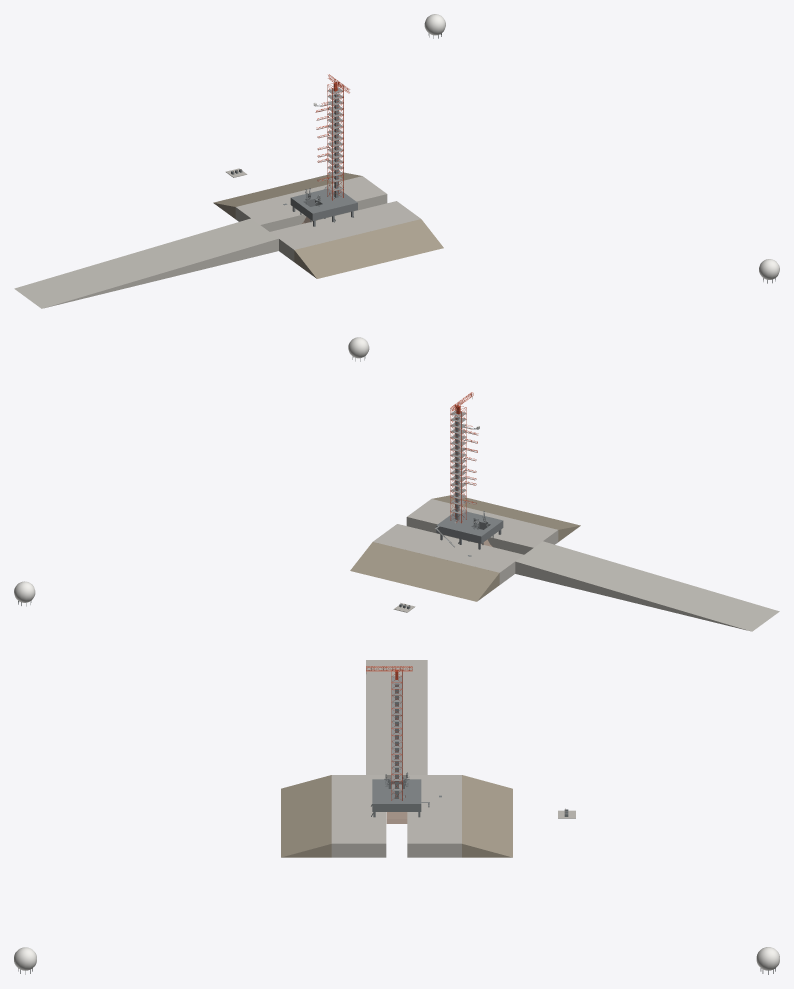
File: pad-a-1969-11.lod2.glb
3 views of the same model, one above another, from view 1: azimuth 30°, elevation 25°; view 2: azimuth 150°, elevation 25°; view 3: azimuth 270°, elevation 25° (orthographic). The views are drawn at different scales.
Visible parts, largest first — view 1: Hardstand_Concrete, Hardstand_Earth, Launcher_Base_Steel, Umbilical_Tower_Deck, Umbilical_Tower_Red, Storage_Spheres_White; view 2: Hardstand_Concrete, Hardstand_Earth, Launcher_Base_Steel, Umbilical_Tower_Deck, Umbilical_Tower_Red, Storage_Spheres_White; view 3: Hardstand_Concrete, Hardstand_Earth, Launcher_Base_Steel, Umbilical_Tower_Deck, Storage_Spheres_White, Umbilical_Tower_Red.
Boxes of the visible parts, x1,y1,x2,y2 form: Hardstand_Concrete: [14, 176, 420, 308]; Hardstand_Earth: [213, 172, 443, 278]; Launcher_Base_Steel: [290, 189, 357, 220]; Umbilical_Tower_Deck: [327, 87, 343, 191]; Umbilical_Tower_Red: [327, 82, 343, 200]; Storage_Spheres_White: [424, 14, 779, 279]; Hardstand_Concrete: [373, 499, 779, 631]; Hardstand_Earth: [350, 495, 580, 601]; Launcher_Base_Steel: [436, 511, 503, 543]; Umbilical_Tower_Deck: [450, 410, 466, 514]; Umbilical_Tower_Red: [450, 405, 466, 523]; Storage_Spheres_White: [14, 337, 369, 602]; Hardstand_Concrete: [331, 660, 461, 857]; Hardstand_Earth: [281, 775, 512, 857]; Launcher_Base_Steel: [372, 779, 421, 811]; Umbilical_Tower_Deck: [391, 676, 402, 790]; Storage_Spheres_White: [14, 947, 779, 970]; Umbilical_Tower_Red: [391, 669, 402, 800].
Bounding box in the file's own units: 630 × 149 × 644.
